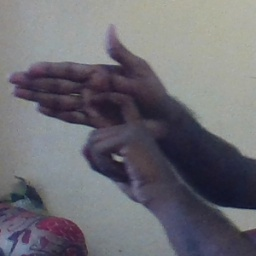R: (12, 22, 169, 189)
